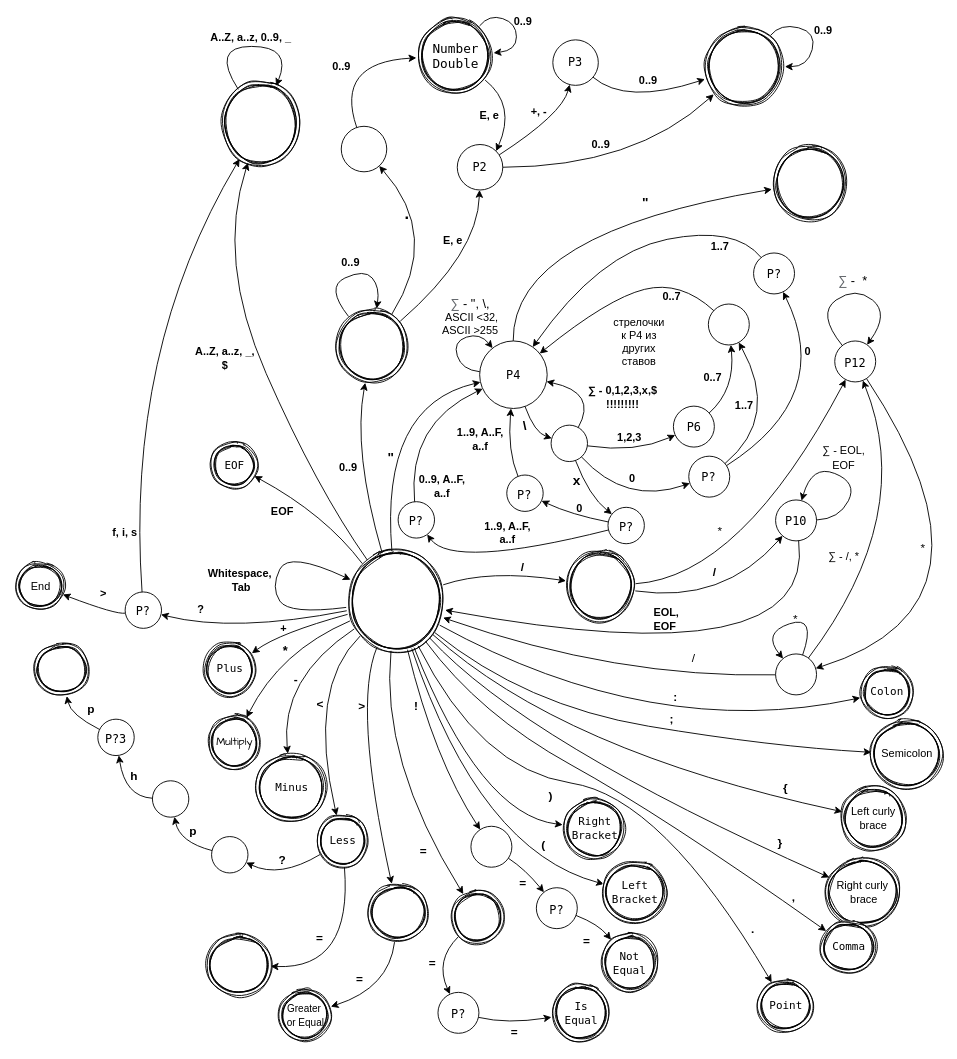
Image size: 957x1059. Some labels were removed from this diagram. The centre of each missing label's shape, as x and y in pixels:
Division: point 600,585
Equal Sign: point 477,917
Greater: point 398,912
ID or Keyword: point 260,123
Less or Equal: point 238,964
Number: point 372,345
Number Exponent: point 743,66
P1: point 363,148
P13: point 796,674
P15: point 491,846
P5: point 568,443
P8: point 728,324
P?1: point 229,854
P?2: point 170,798
Prolog: point 61,669
START: point 395,600
String: point 809,182
